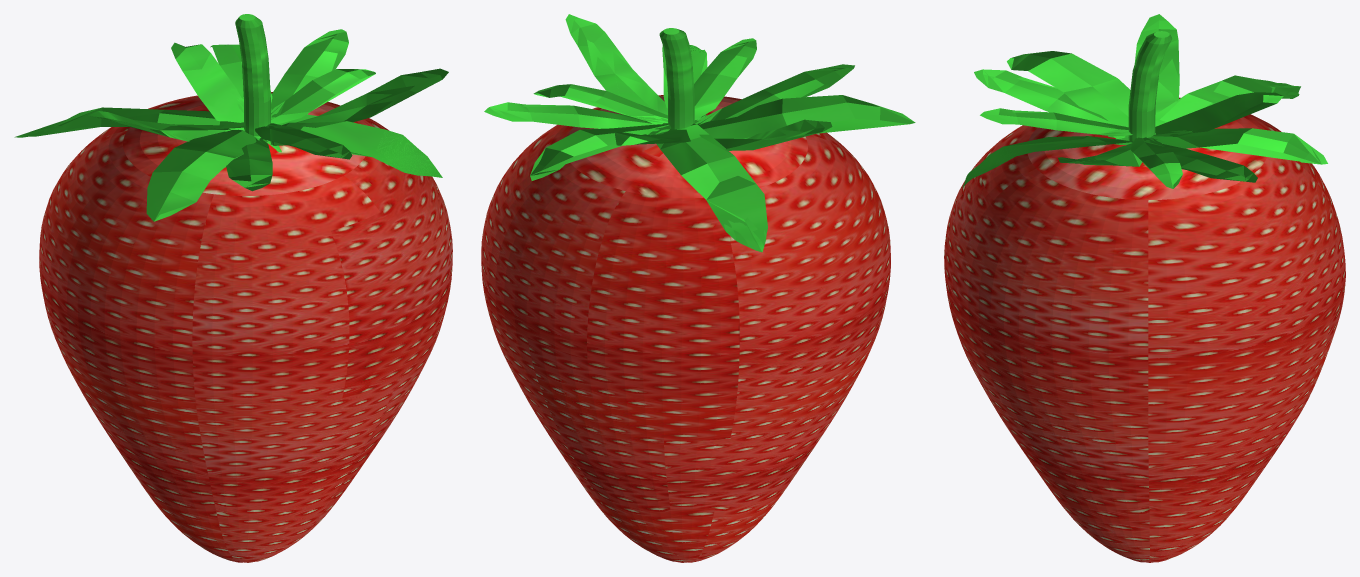
The model's file is Strawberry.fbx.
3 views of the same model, side by side, from view 1: azimuth 30°, elevation 25°; view 2: azimuth 150°, elevation 25°; view 3: azimuth 270°, elevation 25° (orthographic).
Parts seen in each view (by area): view 1: Strawberry, Tail; view 2: Strawberry, Tail; view 3: Strawberry, Tail.
Boxes of the visible parts, x1=… form: Strawberry: x1=39, y1=92, x2=452, y2=562; Tail: x1=14, y1=14, x2=448, y2=221; Strawberry: x1=481, y1=95, x2=890, y2=562; Tail: x1=484, y1=14, x2=915, y2=252; Strawberry: x1=944, y1=97, x2=1345, y2=562; Tail: x1=962, y1=14, x2=1327, y2=188.
Bounding box in the file's own units: 57.15 × 81.95 × 56.19.
